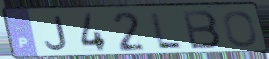2: (111, 11, 147, 54)
4: (80, 12, 109, 54)
B: (180, 9, 224, 51)
J: (43, 15, 70, 52)
L: (149, 12, 185, 51)
O: (221, 9, 259, 49)
